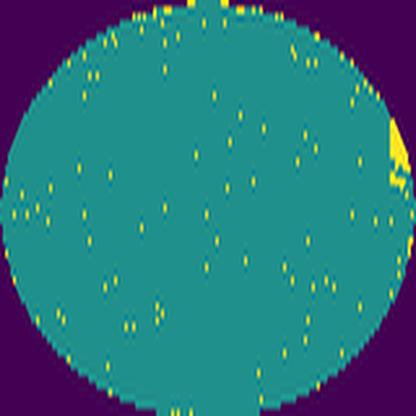Edge-Loc: (387, 116, 412, 192)
